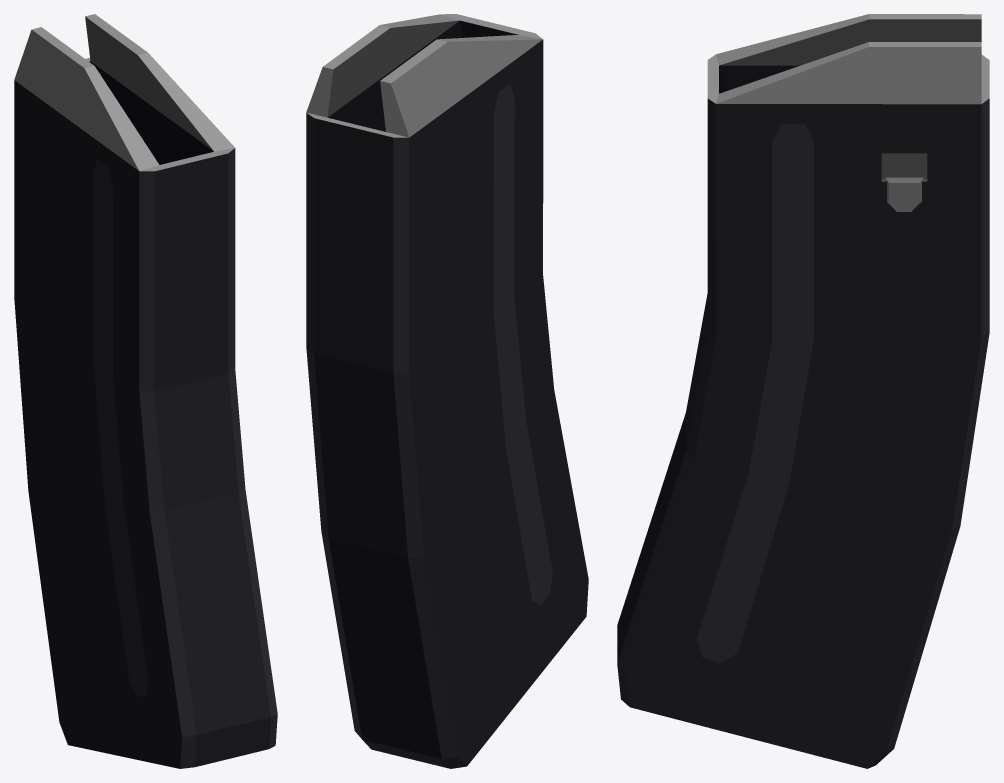
The model's file is MW1_Magazine_5.56mm_01.fbx.
3 views of the same model, side by side, from view 1: azimuth 30°, elevation 25°; view 2: azimuth 150°, elevation 25°; view 3: azimuth 270°, elevation 25° (orthographic). The views are drawn at different scales.
Parts seen in each view (by area): view 1: Magazine_5.56mm_01; view 2: Magazine_5.56mm_01; view 3: Magazine_5.56mm_01.
Boxes of the visible parts, x1,y1,x2,y2 form: Magazine_5.56mm_01: (14,14,277,768); Magazine_5.56mm_01: (306,14,588,768); Magazine_5.56mm_01: (617,14,989,768).
Bounding box in the file's own units: 2.88 × 18.29 × 8.62.
